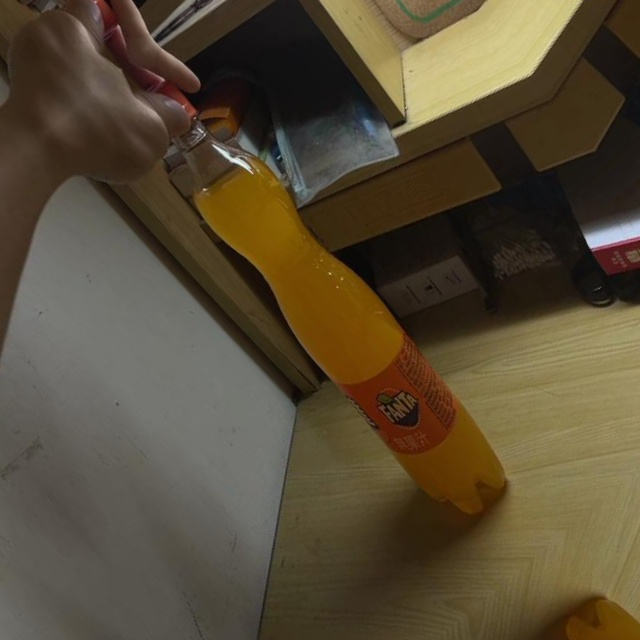Fanta: (111, 59, 531, 535)
